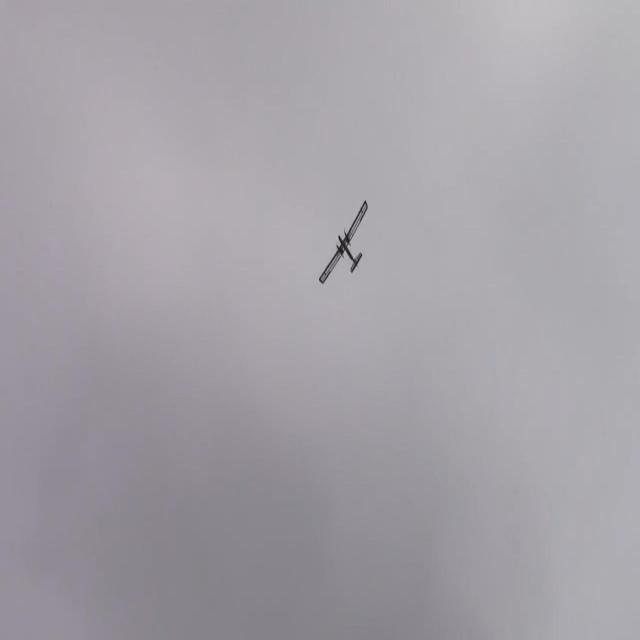plane: (317, 199, 369, 285)
